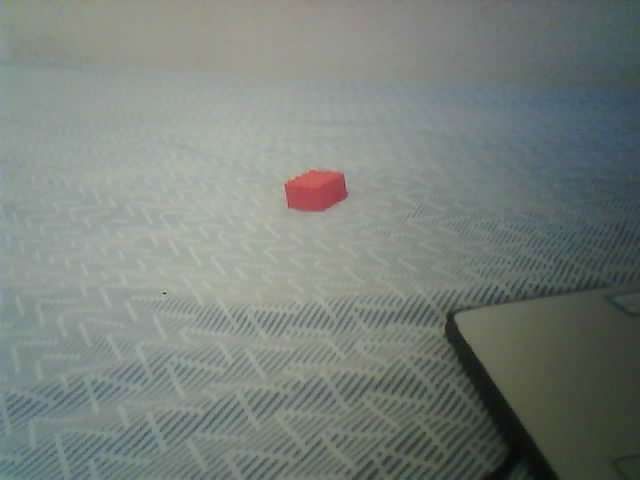lego: (283, 169, 347, 212)
